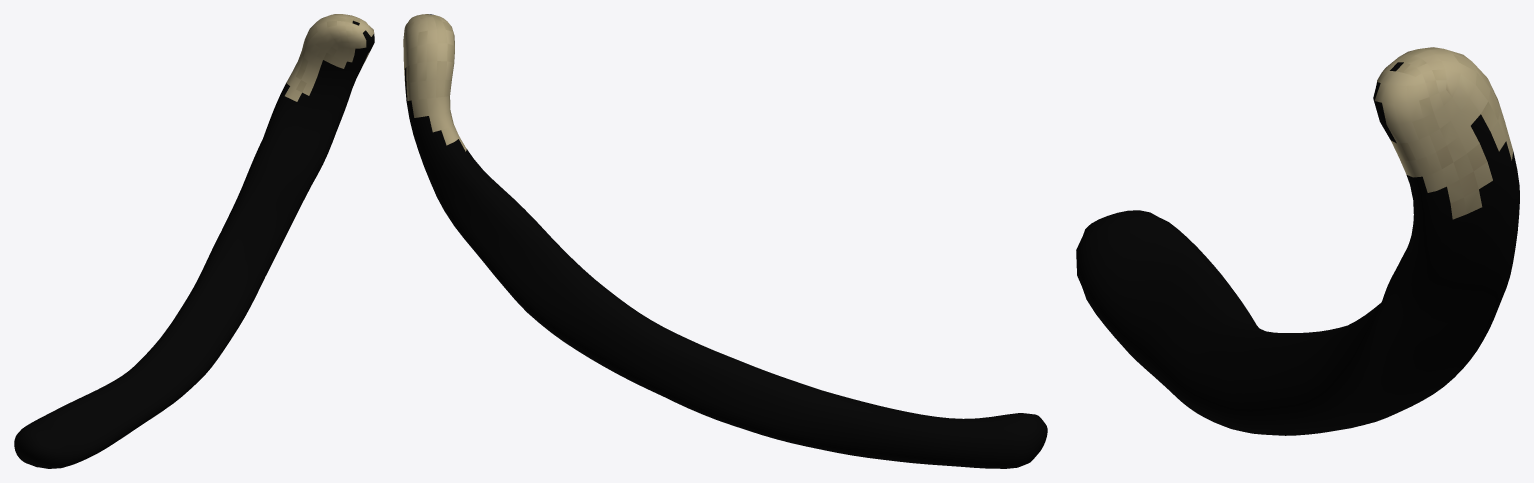
The picture shows the model from 3 angles, left to right: view 1: azimuth 30°, elevation 25°; view 2: azimuth 150°, elevation 25°; view 3: azimuth 270°, elevation 25°; orthographic projection. The views are drawn at different scales.
Parts seen in each view (by area): view 1: CC L05; view 2: CC L05; view 3: CC L05.
Boxes of the visible parts, box(x1,y1,x2,y2) form: CC L05: box(14, 14, 374, 468); CC L05: box(403, 14, 1047, 468); CC L05: box(1076, 47, 1519, 435).
Bounding box in the file's own units: 11.28 × 7.86 × 5.15.
